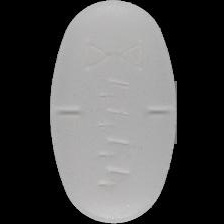55700-003: (0, 0, 224, 224)
